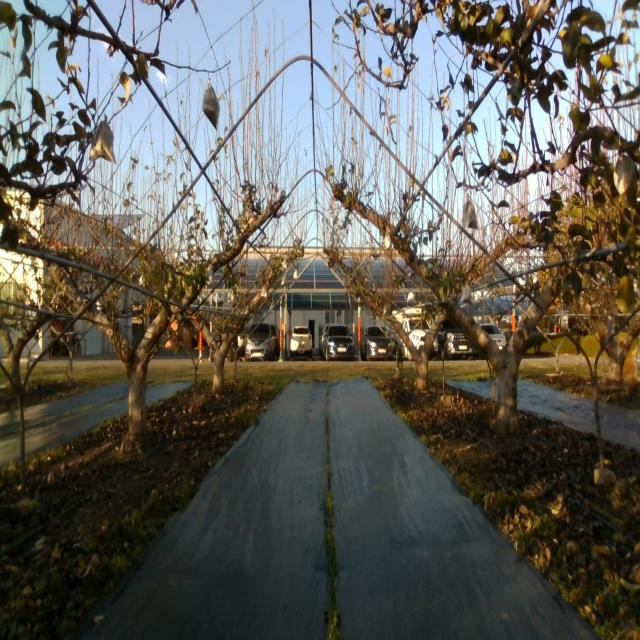pearbags: (613, 154, 638, 208), (89, 121, 116, 166), (202, 82, 220, 132), (463, 200, 478, 230), (461, 285, 472, 304)
